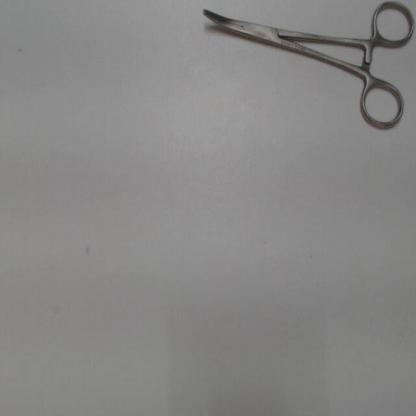Crile Artery Forceps: (196, 1, 415, 132)
